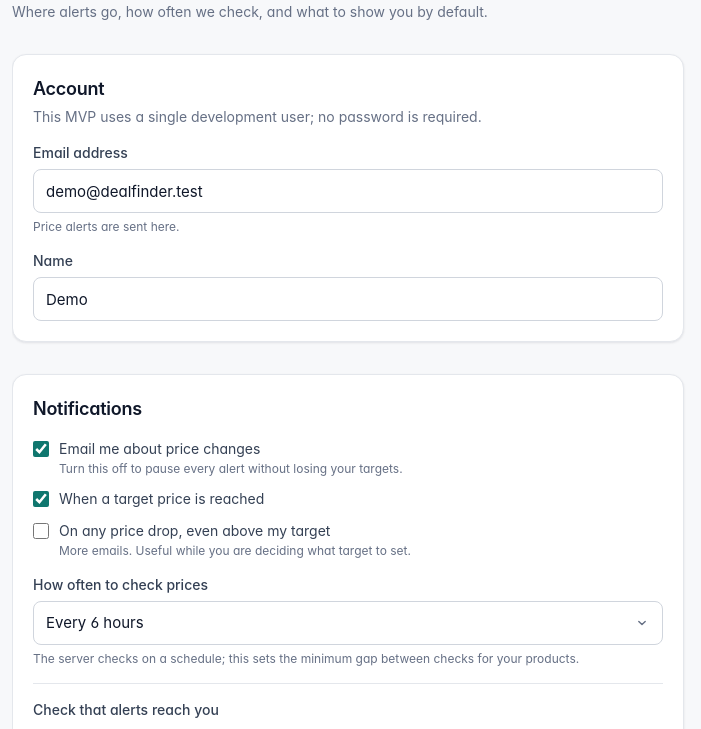
Test: validation and failure › refuses an invalid email against the field, without a round trip
Replace the text in the field labelled "Email address" with "not-an-email": (348, 191) [33, 169, 663, 213]
(page scrolled)
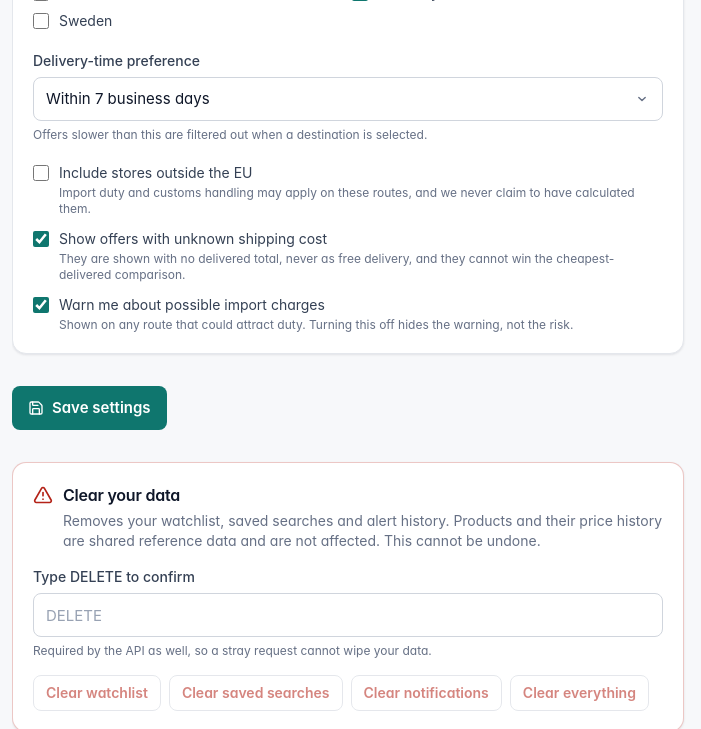
Click the button "Save settings": (89, 408) [12, 386, 167, 430]
(page scrolled)
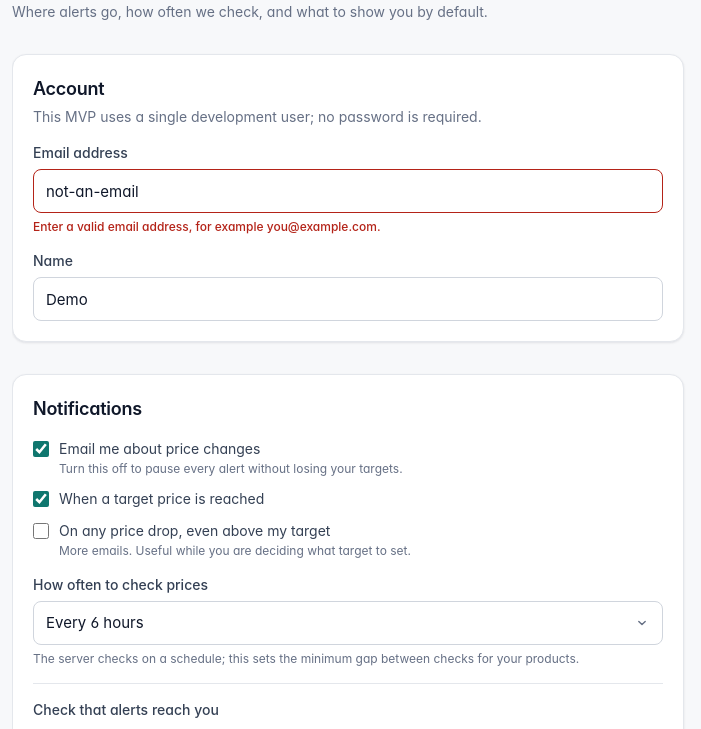
Check: the message shows "valid email address", box [33, 219, 380, 234]
